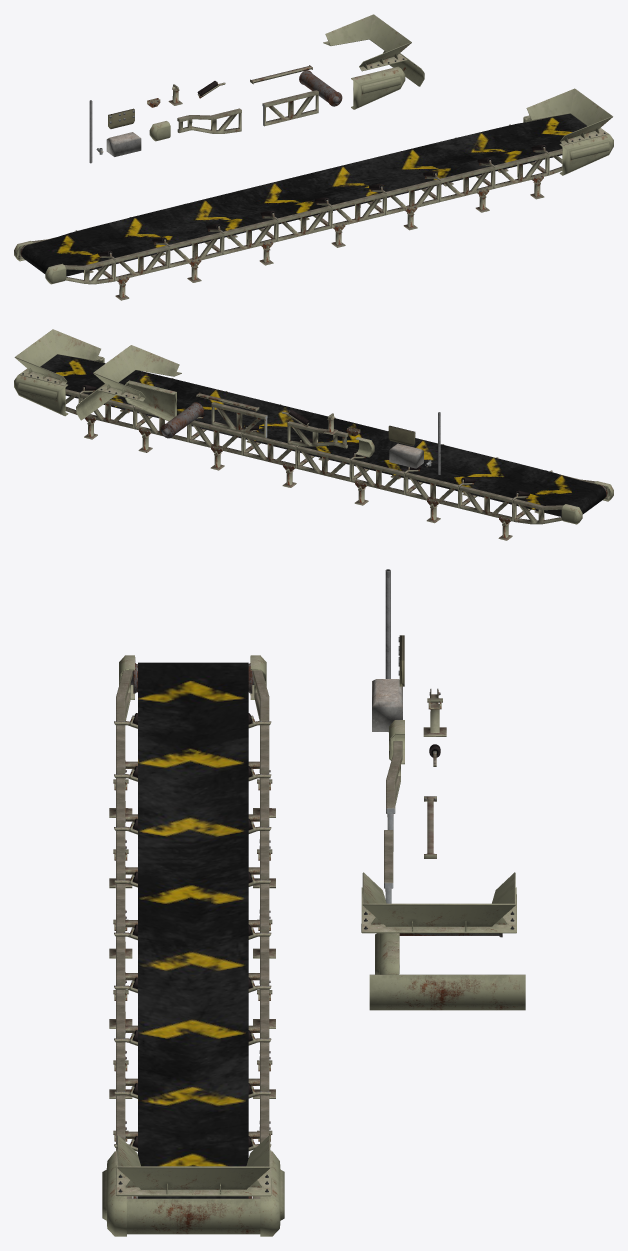
The model's file is quarry_conveyor_system_kit.glb.
The picture shows the model from 3 angles, top to bottom: view 1: azimuth 30°, elevation 25°; view 2: azimuth 150°, elevation 25°; view 3: azimuth 270°, elevation 25°; orthographic projection. The views are drawn at different scales.
Visible parts, largest first — view 1: Conveyor_Belt, Conveyor_Funnel_low1, Conveyor_Funnel_Top, Conveyor_Funnel_Side, Conveyor_Funnel_Side_low1, Conveyor_End_low1, Conveyor_Side, Conveyor_Side_low4, Conveyor_End, Conveyor_Side_low2, Conveyor_Side_low7, Conveyor_Side_low5 (+9 smaller); view 2: Conveyor_Belt, Conveyor_Funnel_low1, Conveyor_Funnel_Top, Conveyor_Funnel_Side_low1, Conveyor_Funnel_Side, Conveyor_End_low1, Conveyor_Side, Conveyor_Side_low4, Conveyor_Side_low3, Conveyor_Side_low5, Conveyor_Side_low2, Conveyor_Side_low1 (+9 smaller); view 3: Conveyor_Belt, Conveyor_Funnel_low1, Conveyor_Funnel_Top, Conveyor_Funnel_Back, Conveyor_Funnel_Back_low1, Conveyor_Funnel_Side_low1, Scaff_ConcreteBlock, Conveyor_End_low1, Conveyor_Funnel_Side, Conveyor_RollerHolder_low1, Conveyor_Side_low5, Conveyor_Side_low7 (+8 smaller).
Boxes of the visible parts, x1=… form: Conveyor_Belt: x1=21, y1=113, x2=586, y2=276; Conveyor_Funnel_low1: x1=524, y1=88, x2=612, y2=145; Conveyor_Funnel_Top: x1=323, y1=14, x2=411, y2=71; Conveyor_Funnel_Side: x1=351, y1=66, x2=405, y2=109; Conveyor_Funnel_Side_low1: x1=523, y1=117, x2=613, y2=175; Conveyor_End_low1: x1=18, y1=117, x2=562, y2=284; Conveyor_Side: x1=262, y1=90, x2=318, y2=126; Conveyor_Side_low4: x1=277, y1=206, x2=331, y2=241; Conveyor_End: x1=177, y1=108, x2=241, y2=133; Conveyor_Side_low2: x1=168, y1=232, x2=223, y2=268; Conveyor_Side_low7: x1=439, y1=166, x2=494, y2=201; Conveyor_Side_low5: x1=331, y1=192, x2=385, y2=228; Conveyor_Belt: x1=40, y1=354, x2=606, y2=516; Conveyor_Funnel_low1: x1=14, y1=329, x2=103, y2=386; Conveyor_Funnel_Top: x1=93, y1=345, x2=181, y2=401; Conveyor_Funnel_Side_low1: x1=14, y1=358, x2=104, y2=416; Conveyor_Funnel_Side: x1=124, y1=380, x2=176, y2=421; Conveyor_End_low1: x1=65, y1=359, x2=609, y2=524; Conveyor_Side: x1=211, y1=402, x2=267, y2=438; Conveyor_Side_low4: x1=296, y1=446, x2=350, y2=481; Conveyor_Side_low3: x1=350, y1=459, x2=405, y2=494; Conveyor_Side_low5: x1=242, y1=433, x2=296, y2=468; Conveyor_Side_low2: x1=405, y1=472, x2=459, y2=508; Conveyor_Side_low1: x1=459, y1=486, x2=513, y2=521; Conveyor_Belt: x1=138, y1=662, x2=248, y2=1198; Conveyor_Funnel_low1: x1=116, y1=1135, x2=271, y2=1196; Conveyor_Funnel_Top: x1=361, y1=872, x2=516, y2=933; Conveyor_Funnel_Back: x1=369, y1=974, x2=525, y2=1010; Conveyor_Funnel_Back_low1: x1=127, y1=1198, x2=260, y2=1234; Conveyor_Funnel_Side_low1: x1=102, y1=1151, x2=284, y2=1236; Scaff_ConcreteBlock: x1=372, y1=679, x2=402, y2=731; Conveyor_End_low1: x1=116, y1=670, x2=269, y2=1199; Conveyor_Funnel_Side: x1=375, y1=933, x2=399, y2=974; Conveyor_RollerHolder_low1: x1=114, y1=713, x2=271, y2=834; Conveyor_Side_low5: x1=116, y1=936, x2=269, y2=985; Conveyor_Side_low7: x1=116, y1=1042, x2=269, y2=1091.
Bounding box in the file's own units: 2090 × 493 × 680.
3 materials, 3 textured.
